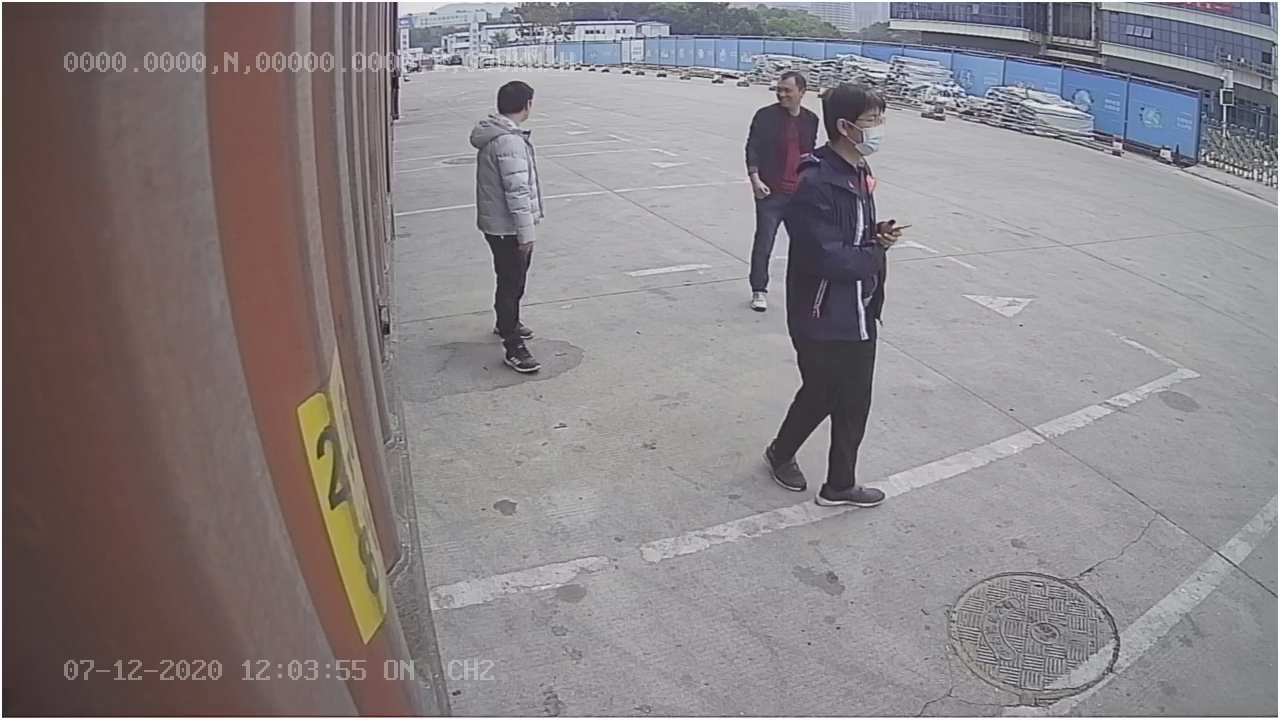person: (469, 74, 551, 373)
